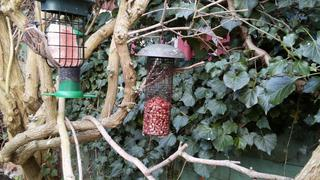sparrow: (23, 20, 62, 70)
